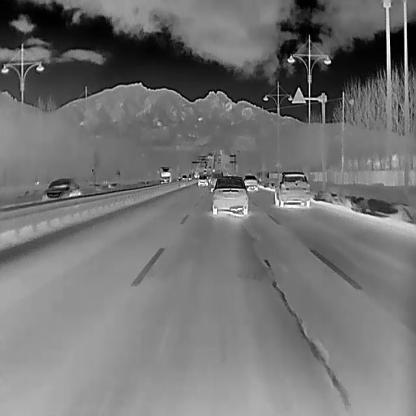car: (211, 174, 248, 214), (274, 170, 310, 207), (41, 178, 81, 199), (242, 173, 258, 191), (209, 169, 222, 191), (198, 174, 208, 187), (179, 173, 187, 180), (192, 170, 199, 178), (202, 168, 206, 174)
truck: (159, 165, 172, 183)
